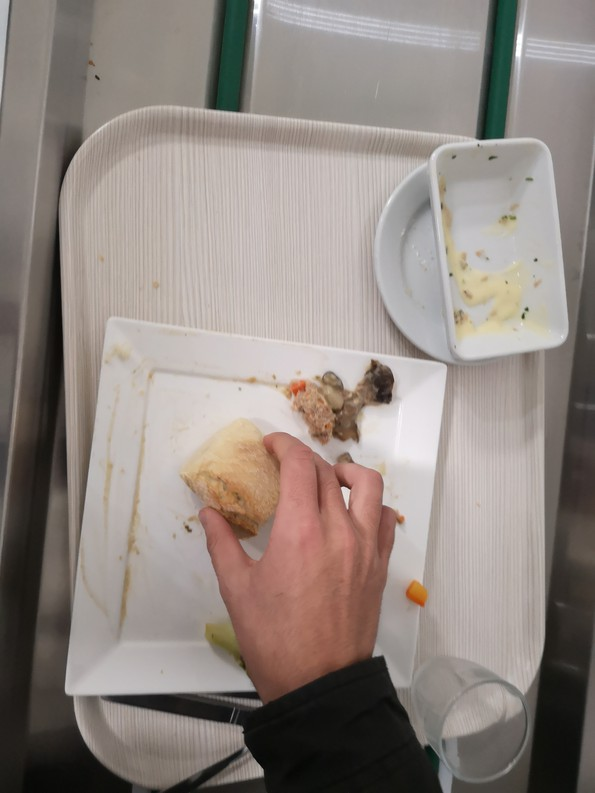cup: (421, 649, 541, 792)
orga: (189, 414, 288, 535), (295, 359, 398, 448)
